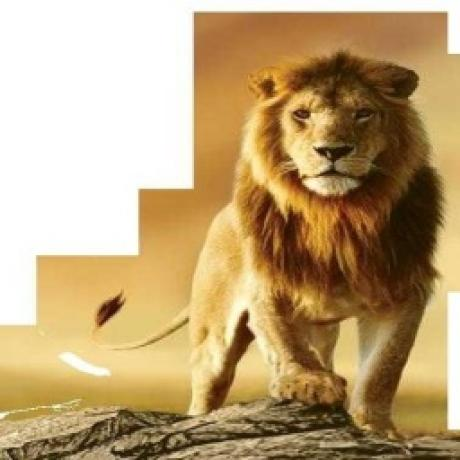Lion: (93, 47, 447, 438)
